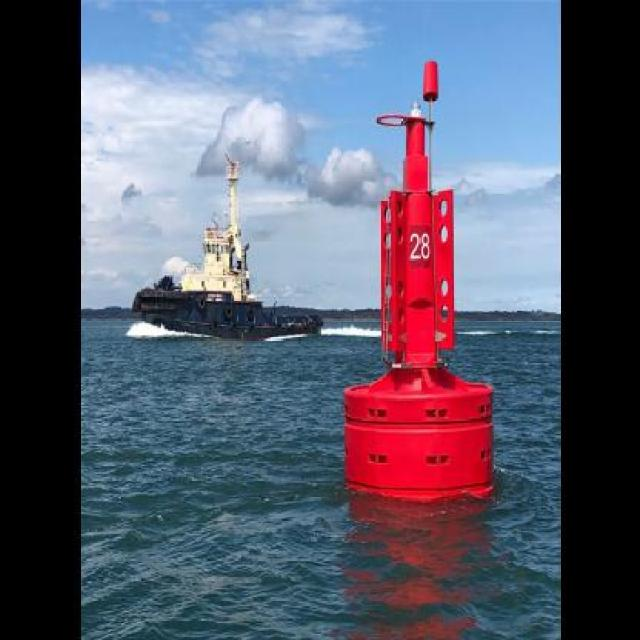buoy: (341, 48, 504, 532)
